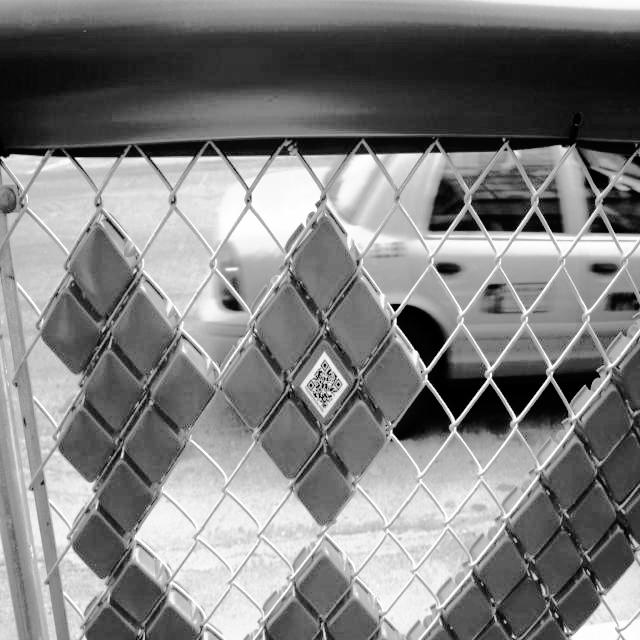qr_code: (307, 360, 342, 409)
